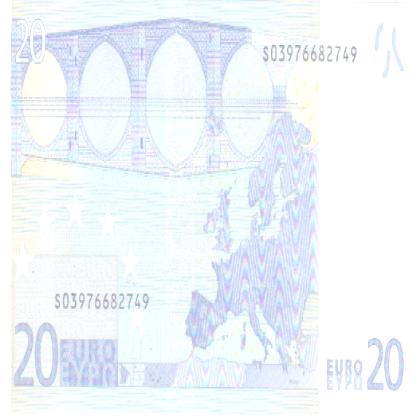euro_banknote: (7, 5, 416, 413)
